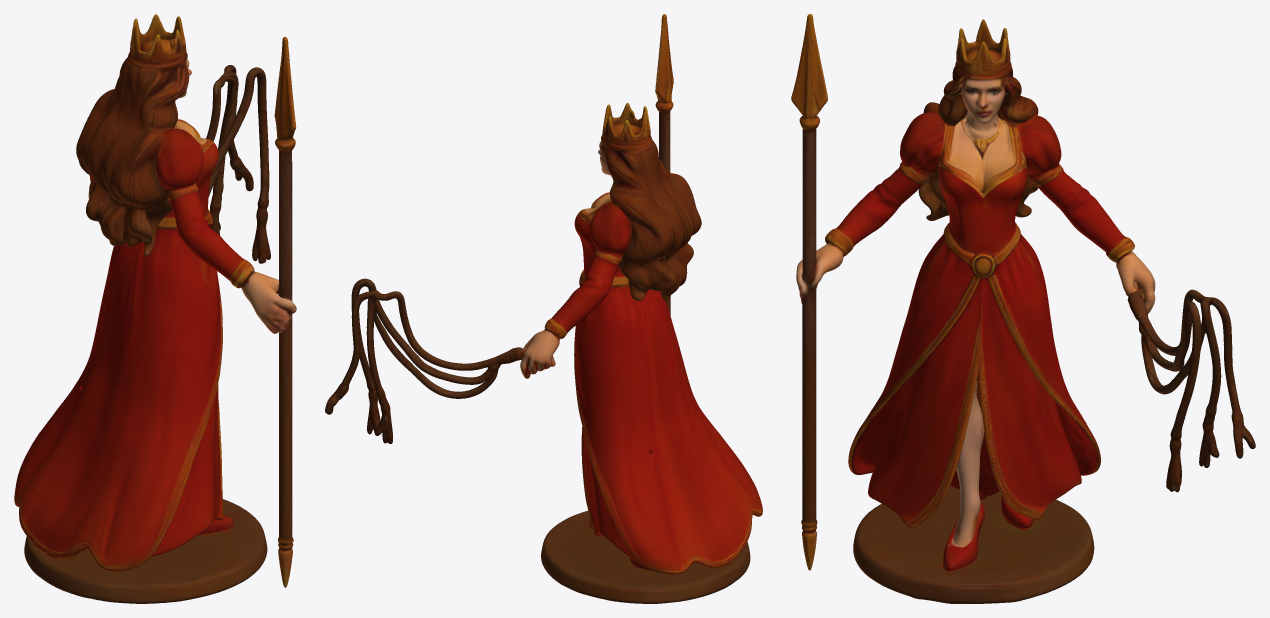
The picture shows the model from 3 angles, left to right: view 1: azimuth 30°, elevation 25°; view 2: azimuth 150°, elevation 25°; view 3: azimuth 270°, elevation 25°; orthographic projection. The views are drawn at different scales.
Visible parts, largest first — view 1: tripo_node_33341e81-30fe-4401-8cc0-5ff8934629f3; view 2: tripo_node_33341e81-30fe-4401-8cc0-5ff8934629f3; view 3: tripo_node_33341e81-30fe-4401-8cc0-5ff8934629f3.
Part boxes in pixels (x1=…): tripo_node_33341e81-30fe-4401-8cc0-5ff8934629f3: x1=14, y1=14, x2=296, y2=603; tripo_node_33341e81-30fe-4401-8cc0-5ff8934629f3: x1=325, y1=14, x2=762, y2=603; tripo_node_33341e81-30fe-4401-8cc0-5ff8934629f3: x1=791, y1=14, x2=1255, y2=603.
Size of the model in its own units: 0.6397 by 1 by 0.7393.
Materials: 1 (1 with a texture image).
